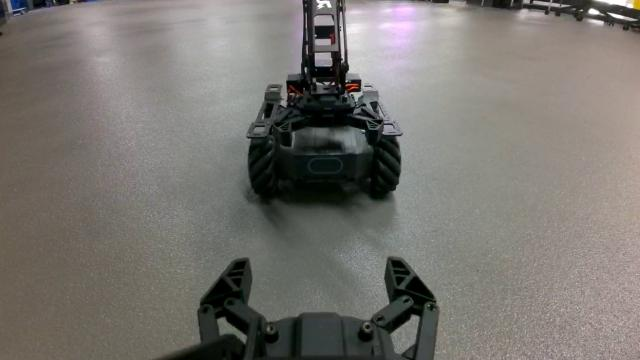robot: (244, 0, 405, 201)
